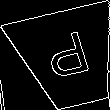P_S: (41, 30, 97, 88)
